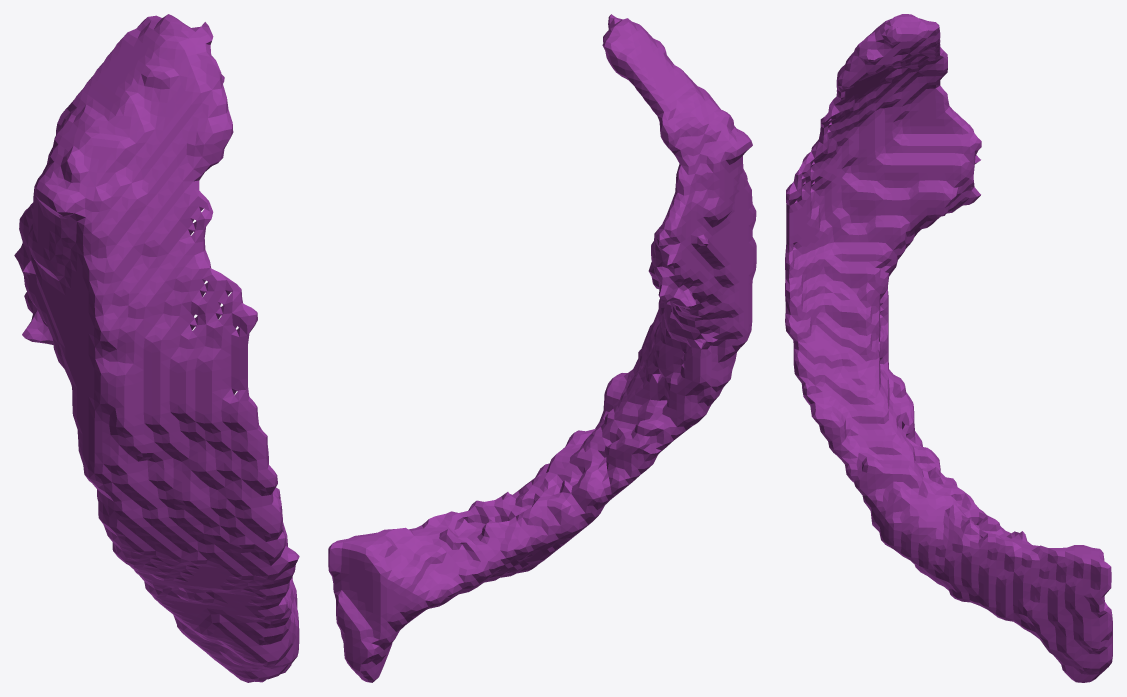
The model's file is aseg_043_Right-Lateral-Ventricle.glb.
3 renders of one model, left to right at view 1: azimuth 30°, elevation 25°; view 2: azimuth 150°, elevation 25°; view 3: azimuth 270°, elevation 25°, orthographic. The views are drawn at different scales.
Bounding box in the file's own units: 37.85 × 75.82 × 38.
